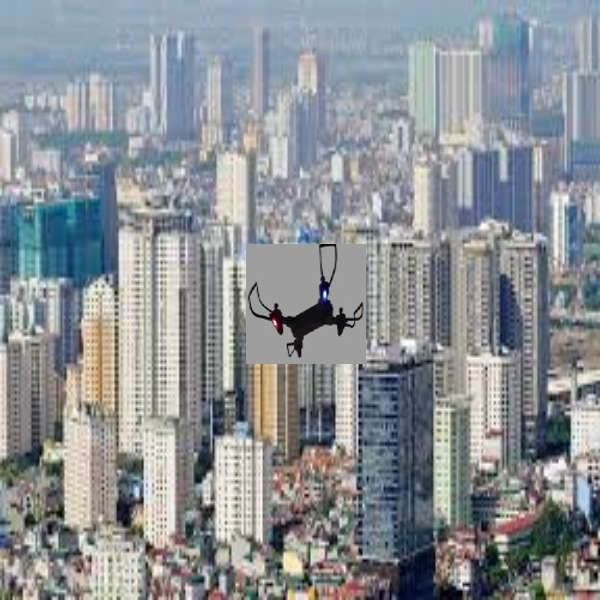drone: (246, 244, 368, 357)
